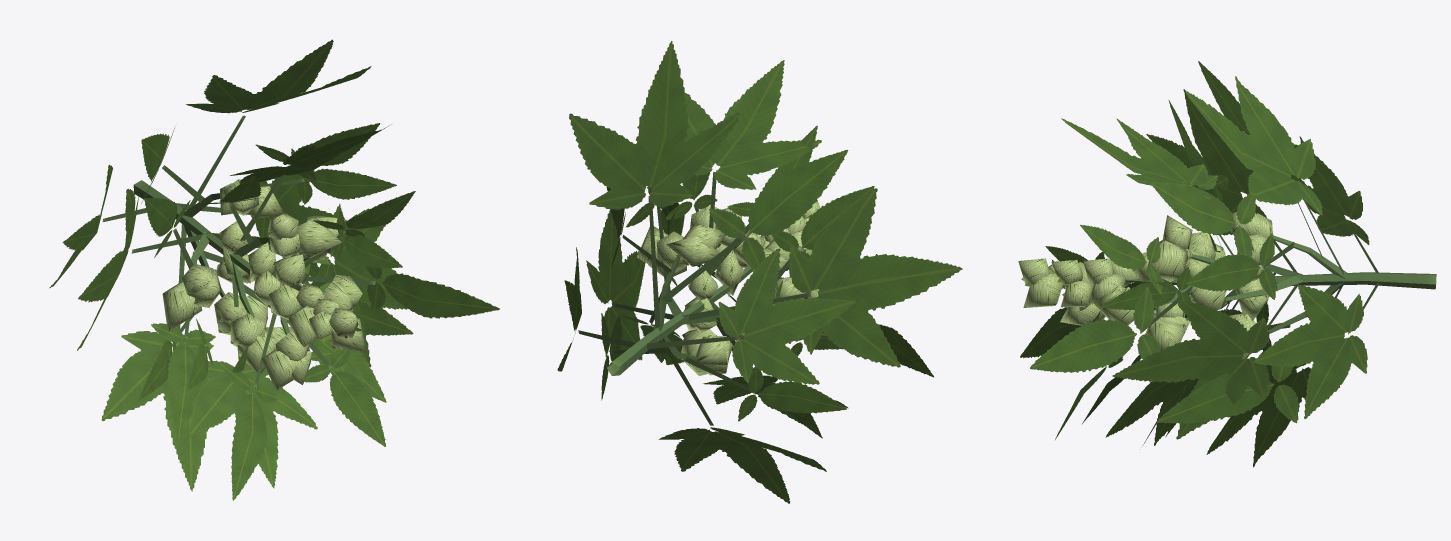
Rendered from p_male_auto_flowering_c0_cards.obj.
The picture shows the model from 3 angles, left to right: view 1: azimuth 30°, elevation 25°; view 2: azimuth 150°, elevation 25°; view 3: azimuth 270°, elevation 25°; orthographic projection.
Bounding box in the file's own units: 1.12 × 1.32 × 0.988.
1 material, 1 textured.
